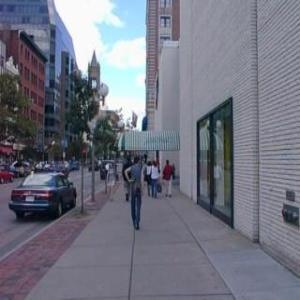drone: (9, 134, 64, 189)
